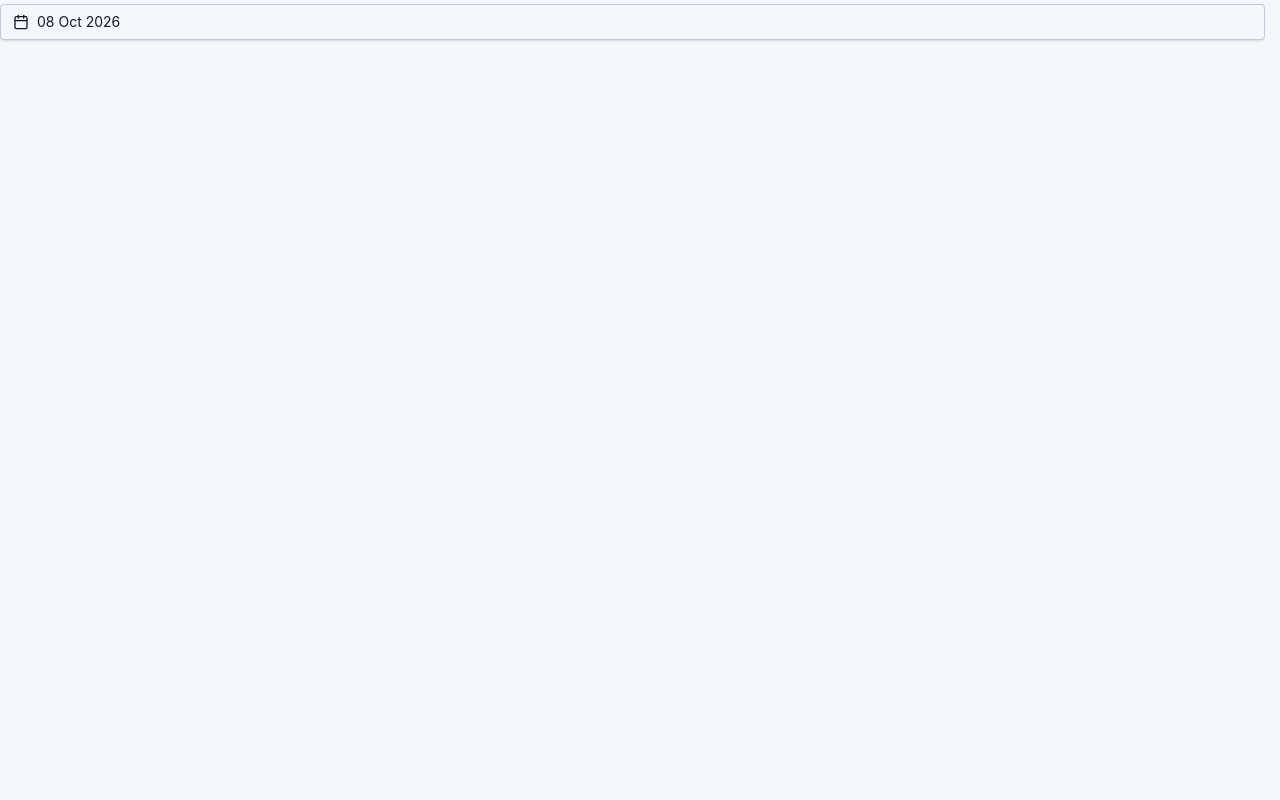
DatePicker › emits a YYYY-MM-DD string when a day is chosen, and closes
This screenshot has width=1280, height=800.
What coordinates should you click on to do the following:
click the button "08 Oct 2026"
I would click on:
 (79, 22)
Its box is [0, 4, 1265, 40].
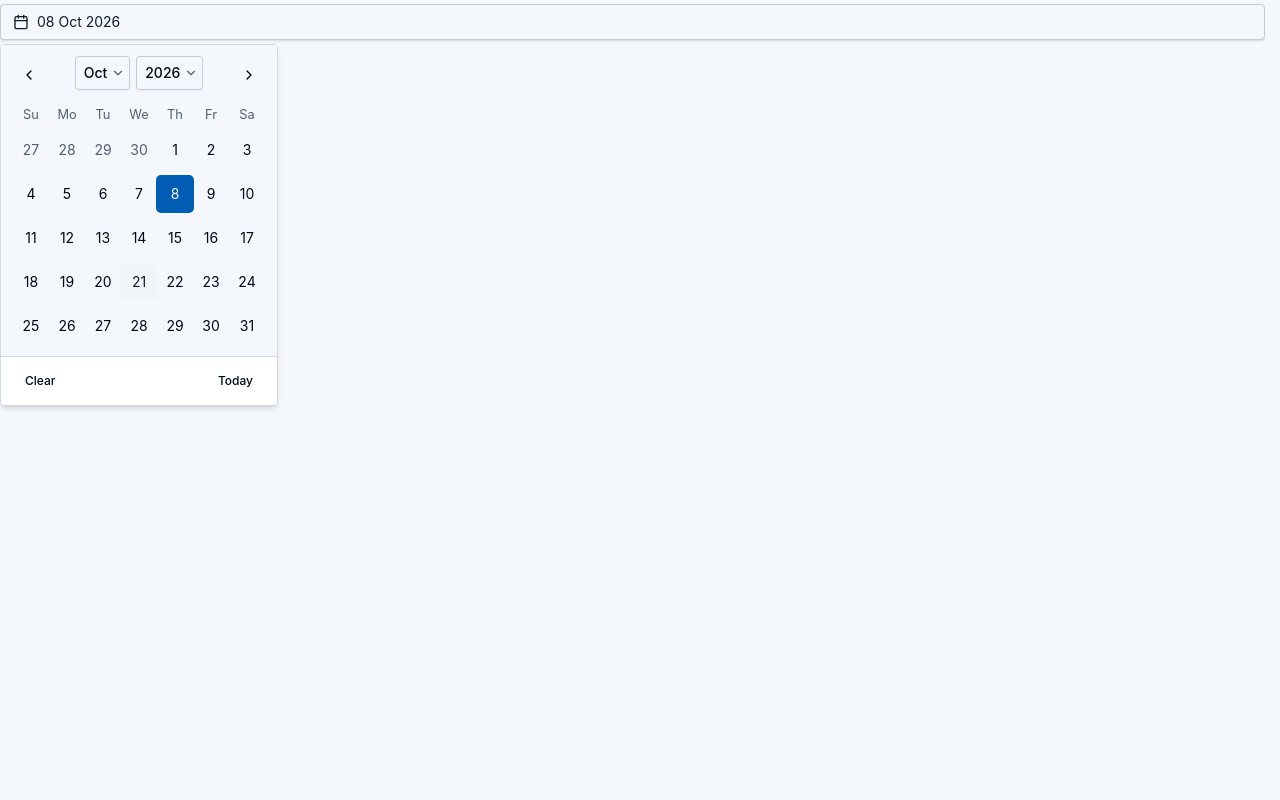
What coordinates should you click on to do the following:
click the button named "october 15th, 2026"
I would click on:
 (175, 238)
Its box is [157, 220, 193, 256].
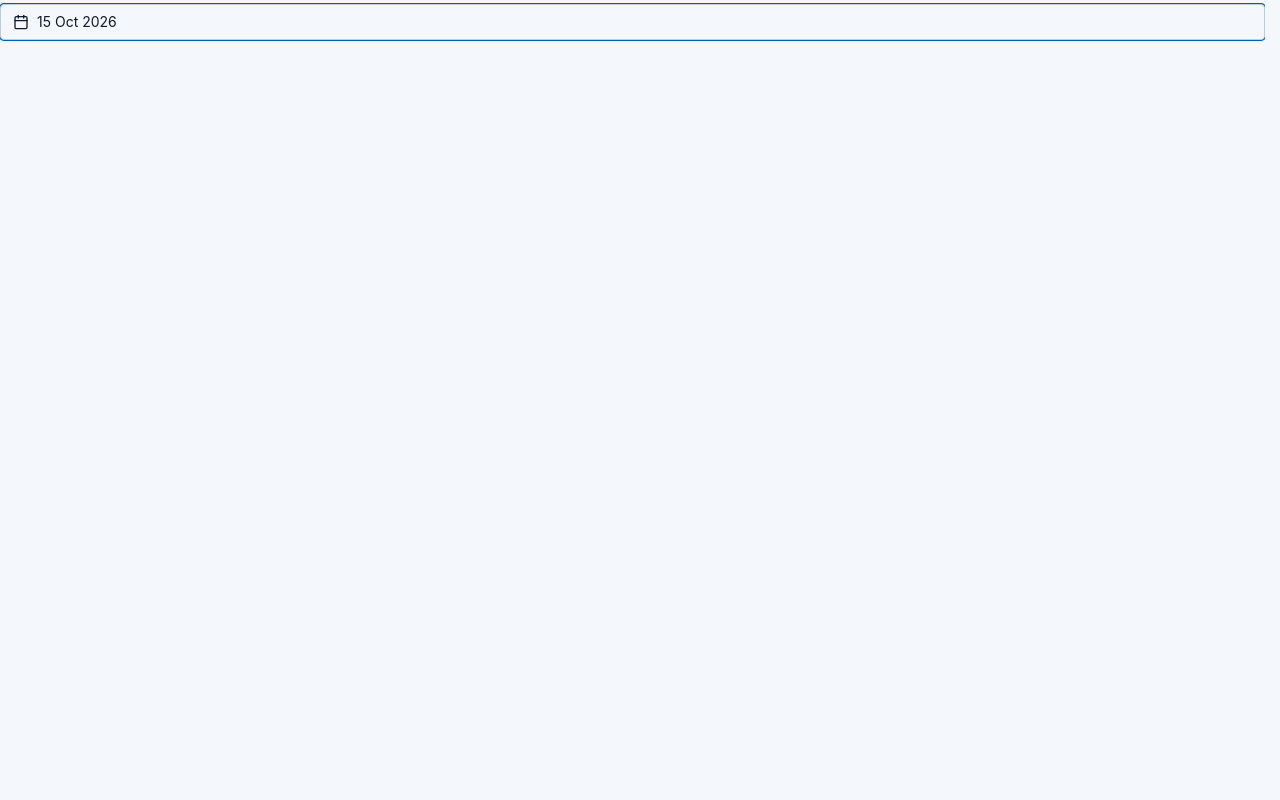
Check: the button "15 Oct 2026" is shown, box [0, 4, 1265, 40]
